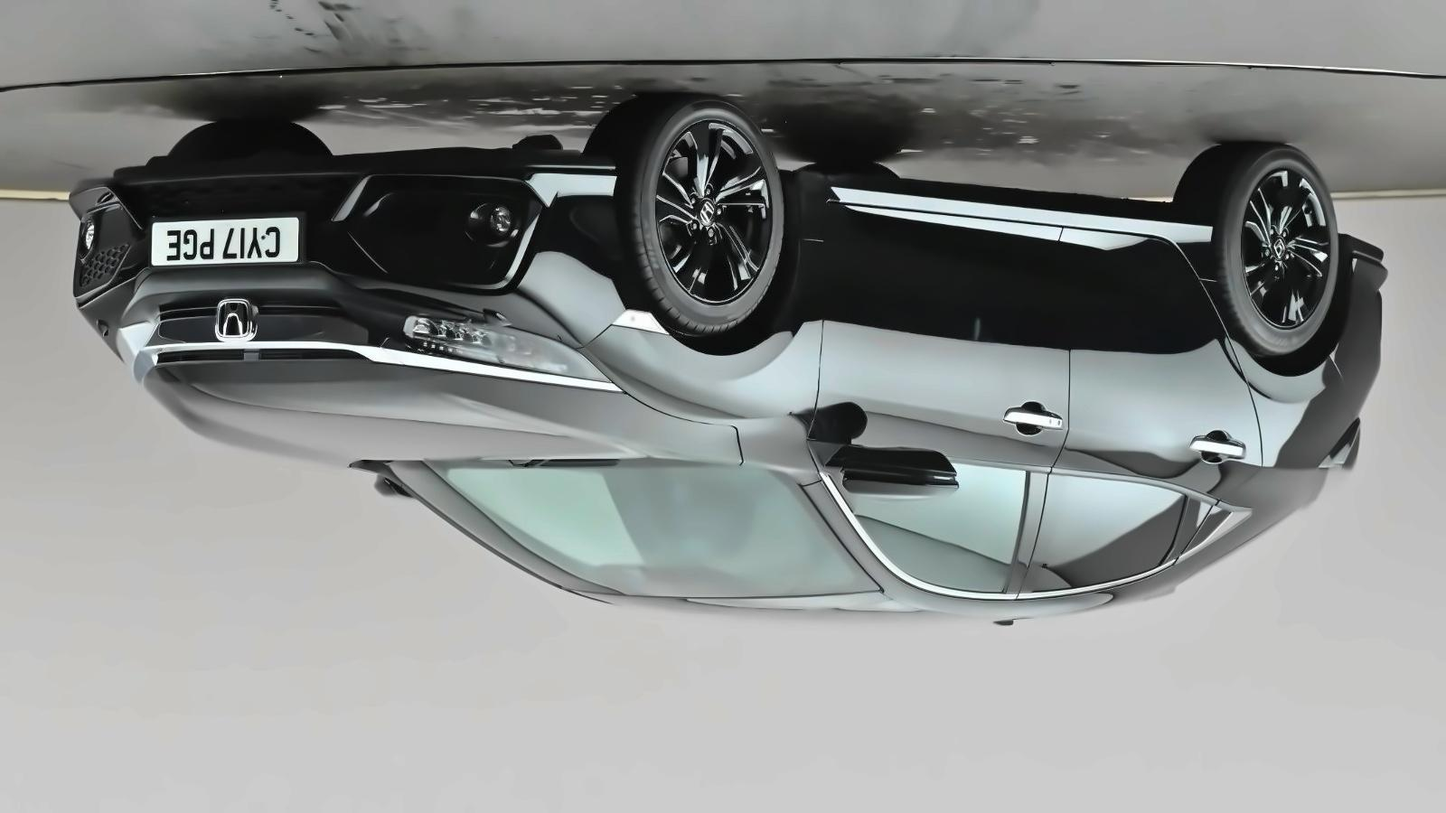Car hood: (137, 358, 746, 477)
Driver-s door - -F-R-: (792, 151, 1088, 646)
Fender - -F-R-: (564, 213, 832, 490)
Fender - -R-R-: (1194, 254, 1353, 538)
Front bumper: (60, 143, 644, 359)
Headlight - -R-: (367, 300, 624, 392)
Passenger-s door - -R-R-: (1008, 156, 1258, 642)
Rear bumper: (1333, 223, 1394, 350)
Rear light - -R-: (1308, 418, 1365, 470)
Side bumper - -R-: (784, 160, 1220, 298)
Side mirror - -R-: (816, 435, 964, 506)
